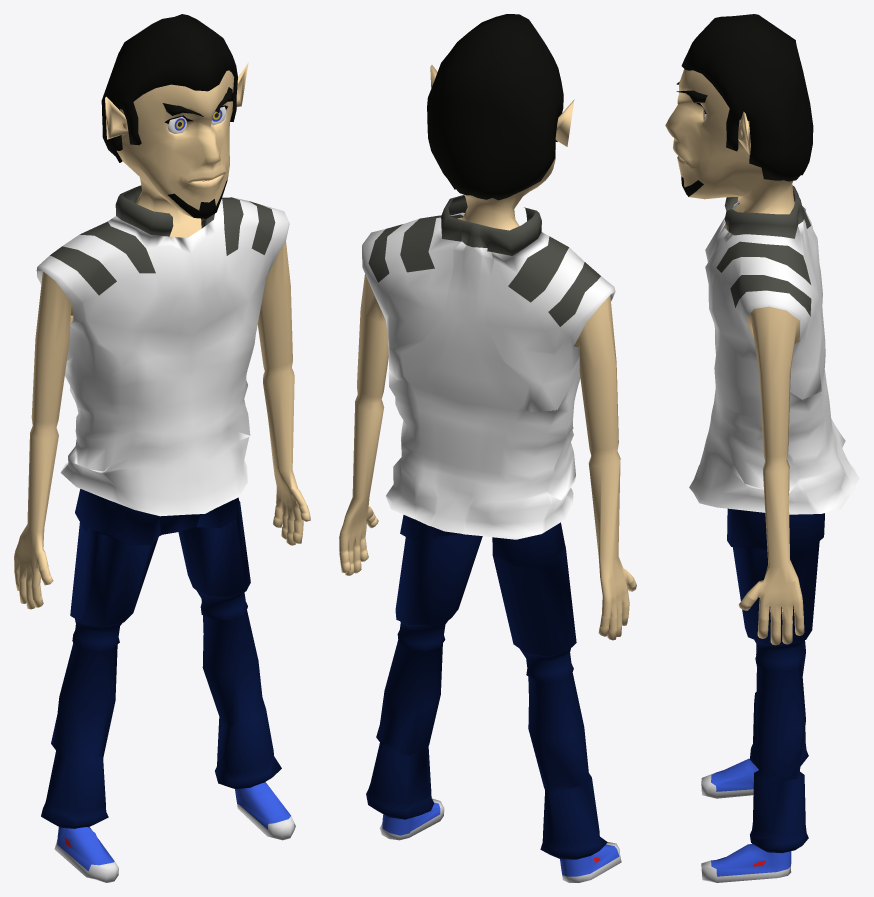
Rendered from player_ichuen_full.glb.
3 renders of one model, left to right at view 1: azimuth 30°, elevation 25°; view 2: azimuth 150°, elevation 25°; view 3: azimuth 270°, elevation 25°, orthographic.
Visible parts, largest first — view 1: ICBd; view 2: ICBd; view 3: ICBd.
Boxes of the visible parts, x1=… form: ICBd: x1=14, y1=14, x2=310, y2=882; ICBd: x1=339, y1=14, x2=636, y2=882; ICBd: x1=665, y1=14, x2=859, y2=882.
Bounding box in the file's own units: 0.6092 × 1.77 × 0.3806.
